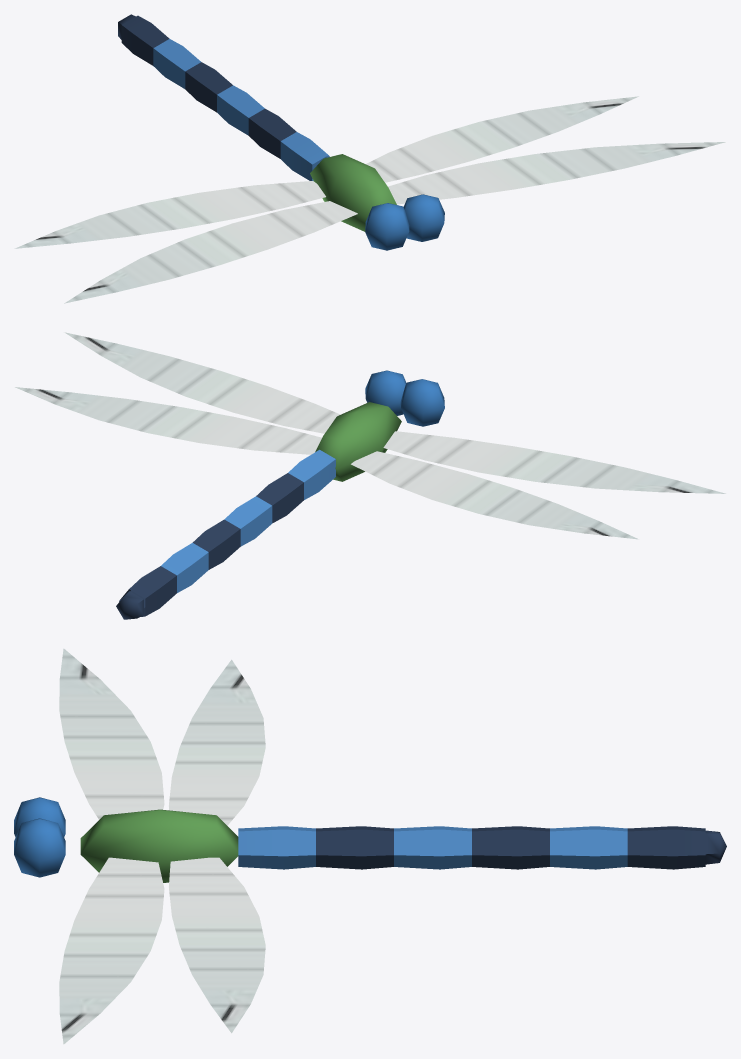
File: darner-dragonfly.glb
3 views of the same model, one above another, from view 1: azimuth 30°, elevation 25°; view 2: azimuth 150°, elevation 25°; view 3: azimuth 270°, elevation 25° (orthographic). The views are drawn at different scales.
Visible parts, largest first — view 1: darner-dragonfly; view 2: darner-dragonfly; view 3: darner-dragonfly.
Boxes of the visible parts, bbox=[...] form: darner-dragonfly: bbox=[14, 14, 725, 303]; darner-dragonfly: bbox=[15, 332, 725, 619]; darner-dragonfly: bbox=[14, 648, 726, 1044].
Bounding box in the file's own units: 7.07 × 0.6125 × 5.37.
Materials: 2 (1 with a texture image).
